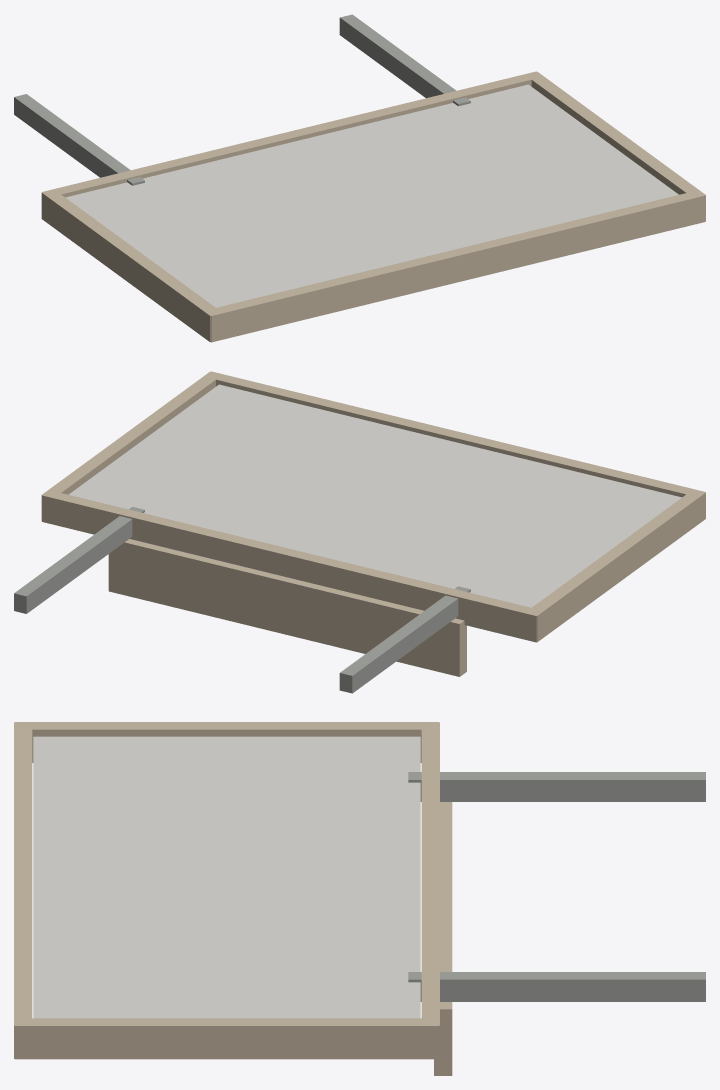
The model's file is whiteboard.glb.
The picture shows the model from 3 angles, top to bottom: view 1: azimuth 30°, elevation 25°; view 2: azimuth 150°, elevation 25°; view 3: azimuth 270°, elevation 25°; orthographic projection. The views are drawn at different scales.
Visible parts, largest first — view 1: panel, frame_topbottom_1.68, frame_side_-0.86, frame_topbottom_0.68, frame_side_0.86, leg_0.58, leg_-0.58; view 2: panel, marker_tray, frame_topbottom_0.68, frame_side_-0.86, frame_topbottom_1.68, leg_-0.58, leg_0.58, frame_side_0.86; view 3: panel, frame_side_0.86, leg_-0.58, leg_0.58, frame_side_-0.86, frame_topbottom_1.68, frame_topbottom_0.68, marker_tray.
Boxes of the visible parts, x1,y1,x2,y2 form: panel: (65,84,678,307); frame_topbottom_1.68: (205,191,705,342); frame_side_-0.86: (41,190,222,342); frame_topbottom_0.68: (42,71,542,197); frame_side_0.86: (526,71,705,220); leg_0.58: (339,14,470,106); leg_-0.58: (14,94,144,185); panel: (68,384,681,607); marker_tray: (108,539,466,676); frame_topbottom_0.68: (42,490,539,642); frame_side_-0.86: (528,489,705,642); frame_topbottom_1.68: (204,371,705,497); leg_-0.58: (339,586,470,693); leg_0.58: (14,507,144,613); frame_side_0.86: (41,371,222,520); panel: (33,736,420,1018); frame_side_0.86: (15,1018,438,1059); leg_-0.58: (408,772,705,801); leg_0.58: (408,972,705,1001); frame_side_-0.86: (15,722,438,762); frame_topbottom_1.68: (14,722,32,1058); frame_topbottom_0.68: (421,722,439,1058); marker_tray: (434,802,452,1075).
Bounding box in the file's own units: 1.76 × 0.255 × 1.7.
